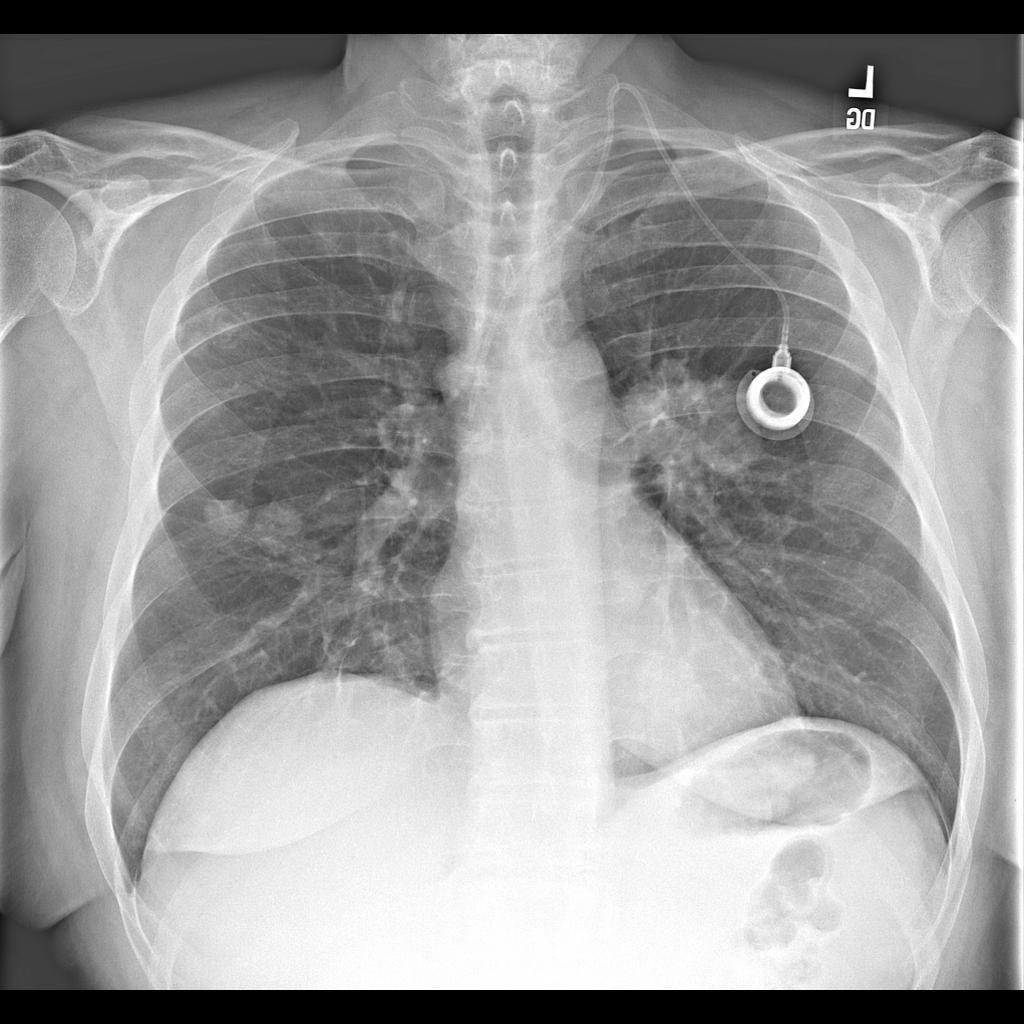Nodule: (632, 643, 704, 739), (251, 499, 305, 555), (204, 490, 252, 549)
